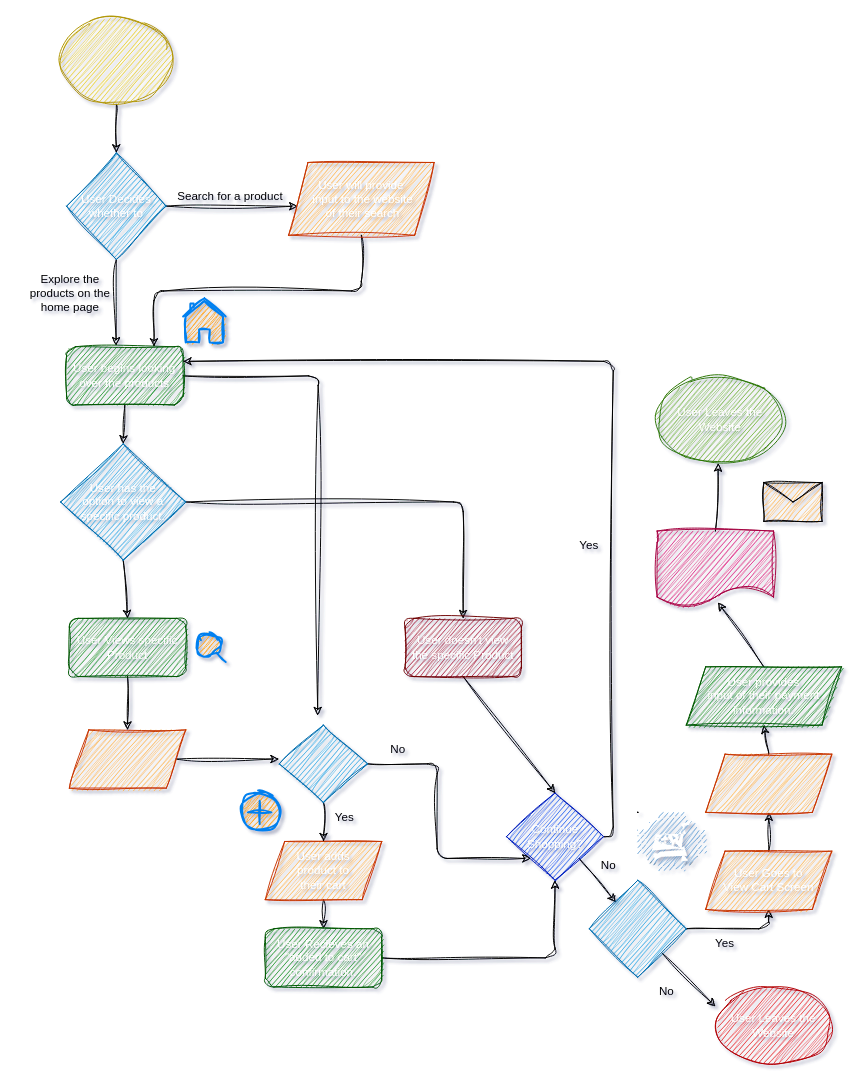
The diagram is 864 pixels wide and 1087 high, and some of its shapes have lost their labels. The box of each missing label's shape, as (x1, y1, x2, y2) in pixels:
Add item to cart?: (278, 724, 368, 803)
Checkout?: (588, 879, 686, 977)
Product's Webpage Opens: (68, 729, 186, 788)
User Enters the Website: (60, 16, 172, 104)
User gets an order confirmation screen AND receives email.: (656, 530, 774, 609)
User Goes to View Payment Screen: (705, 753, 832, 812)
